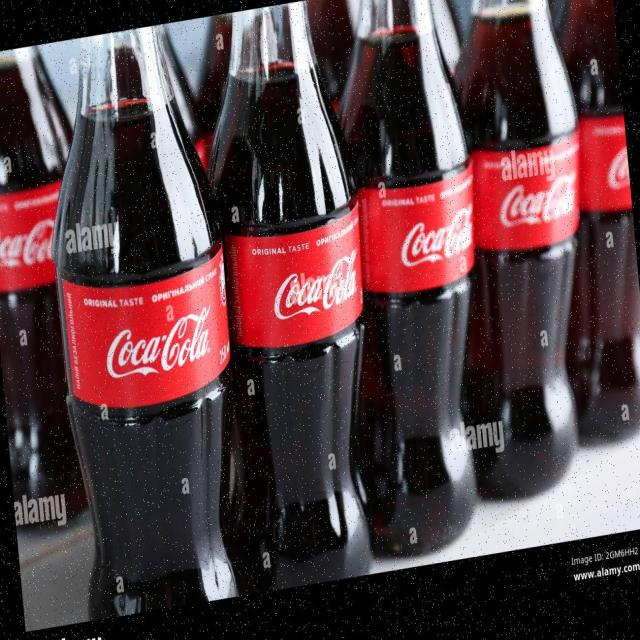coca-cola: (32, 16, 256, 640), (204, 0, 382, 617), (329, 0, 505, 555), (425, 0, 611, 513)
